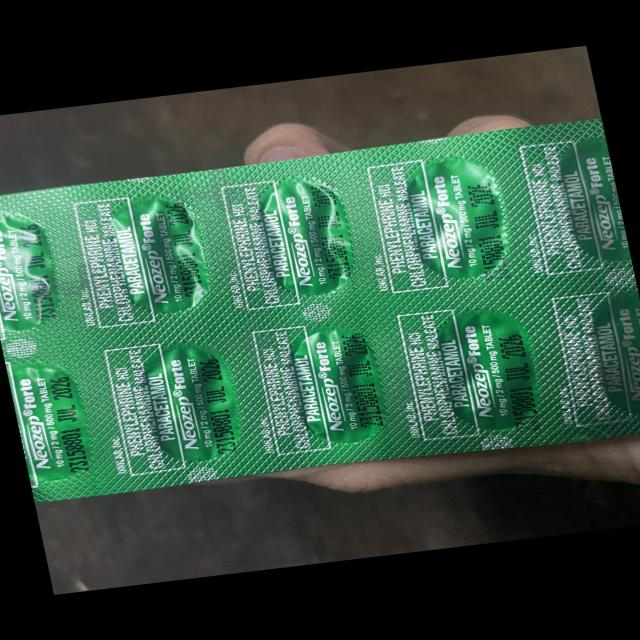Neozep_Strip: (0, 110, 640, 511)
